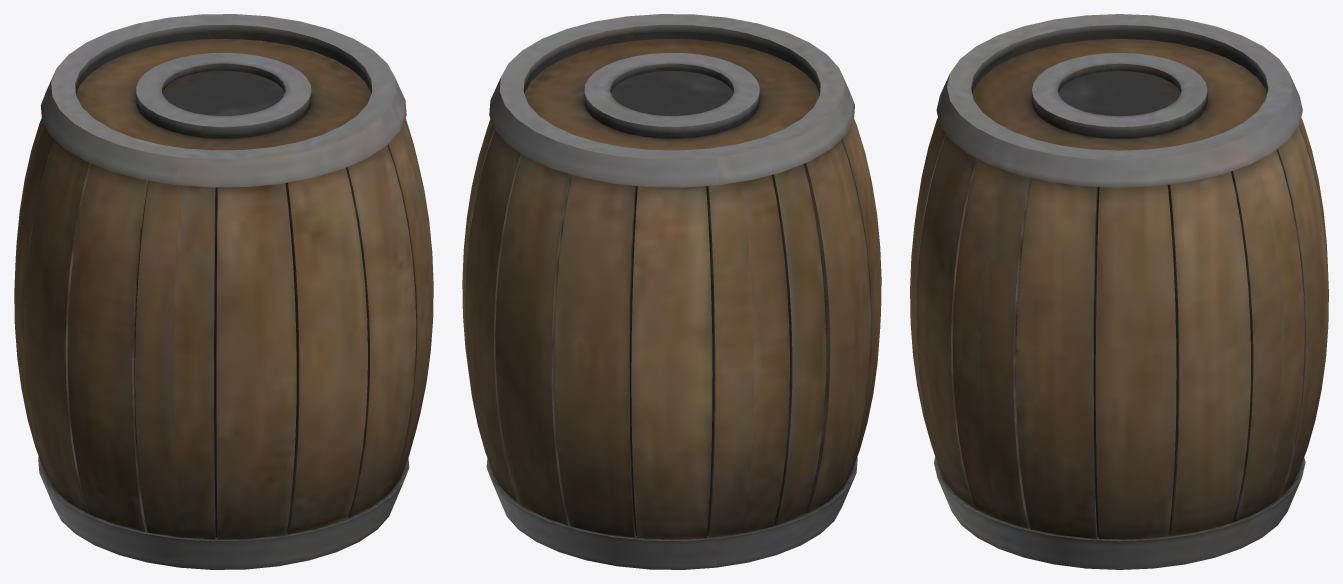
File: SM_barrel_01.glb
3 views of the same model, side by side, from view 1: azimuth 30°, elevation 25°; view 2: azimuth 150°, elevation 25°; view 3: azimuth 270°, elevation 25° (orthographic).
Visible parts, largest first — view 1: SM_barrel_01; view 2: SM_barrel_01; view 3: SM_barrel_01.
Boxes of the visible parts, bbox=[...] form: SM_barrel_01: bbox=[14, 14, 433, 569]; SM_barrel_01: bbox=[462, 14, 881, 569]; SM_barrel_01: bbox=[910, 14, 1328, 569].
Size of the model in its own units: 0.6664 by 0.7205 by 0.6663.
1 material, 1 textured.
